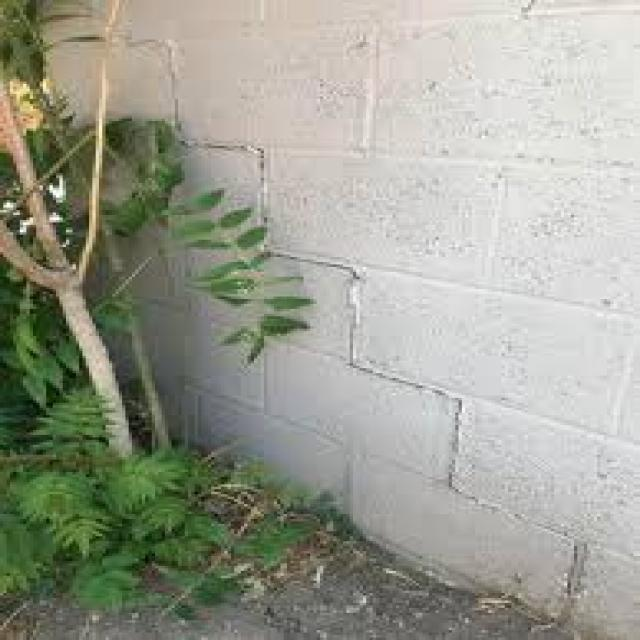Crack: (119, 32, 580, 623)
